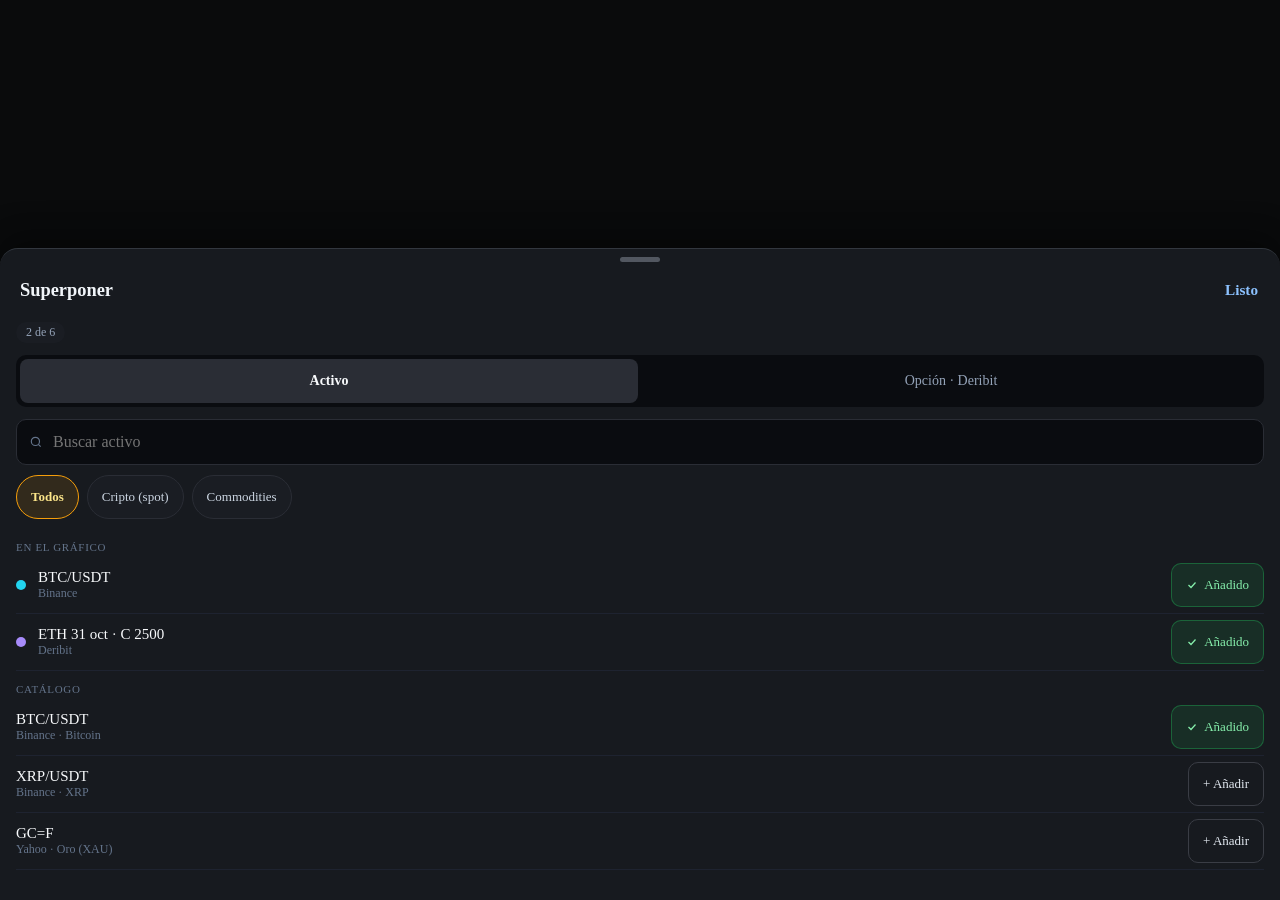
it: OverlayPicker (móvil) › se abre en BottomSheet con "Superponer", el contador y la pestaña Opción en pasos
The width and height of the screenshot is (1280, 900).
Expected: the text "2 de 6" is shown, [16,322,65,343]
Expected: the text "XRP/USDT" is shown, [16,768,88,784]
Step 1. Click the tab "Opción · Deribit" → (951,381), box [642,359,1260,403]
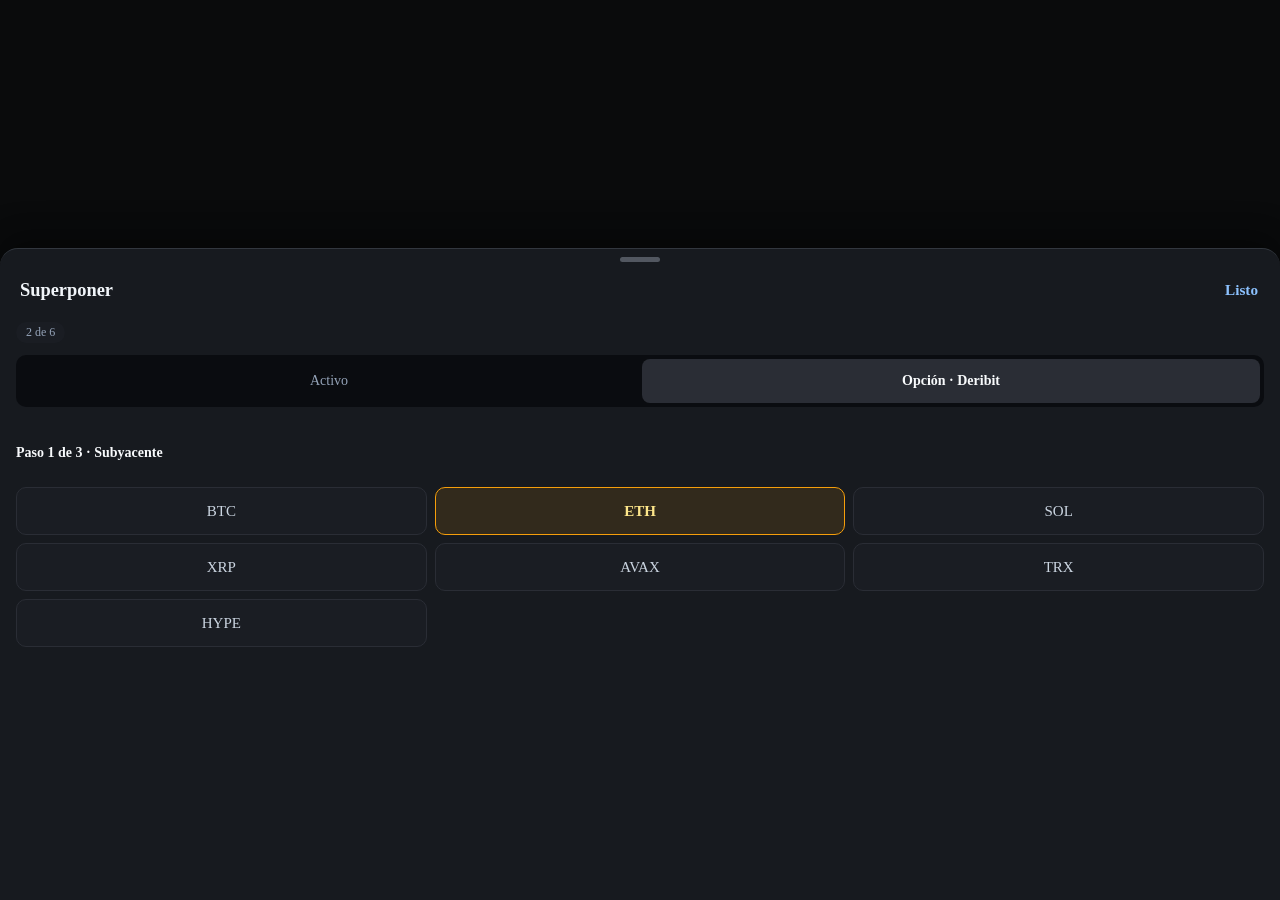
Expected: the text "Paso 1 de 3 · Subyacente" is shown, [16,445,163,461]
